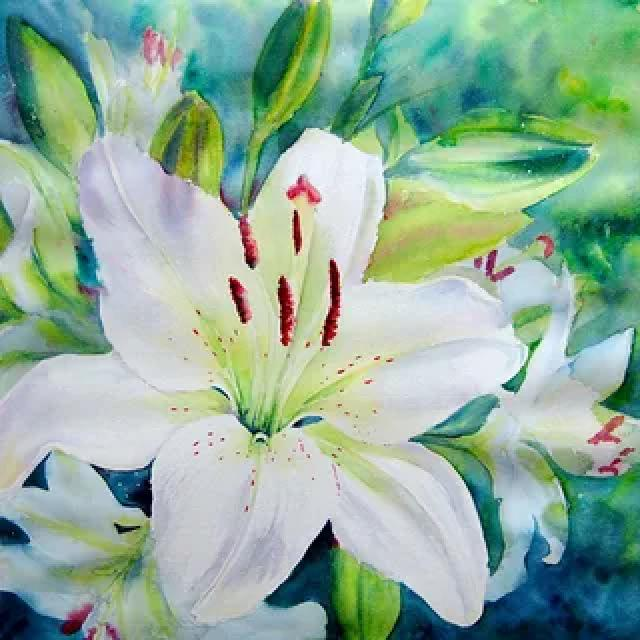lily: (0, 110, 528, 640)
